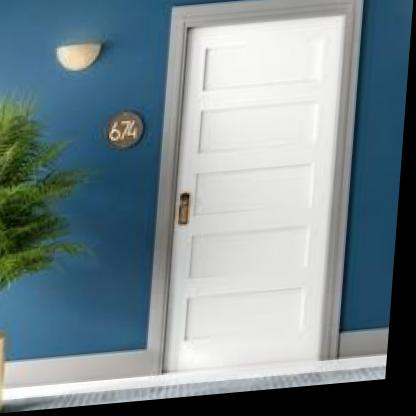door: (157, 6, 363, 379)
